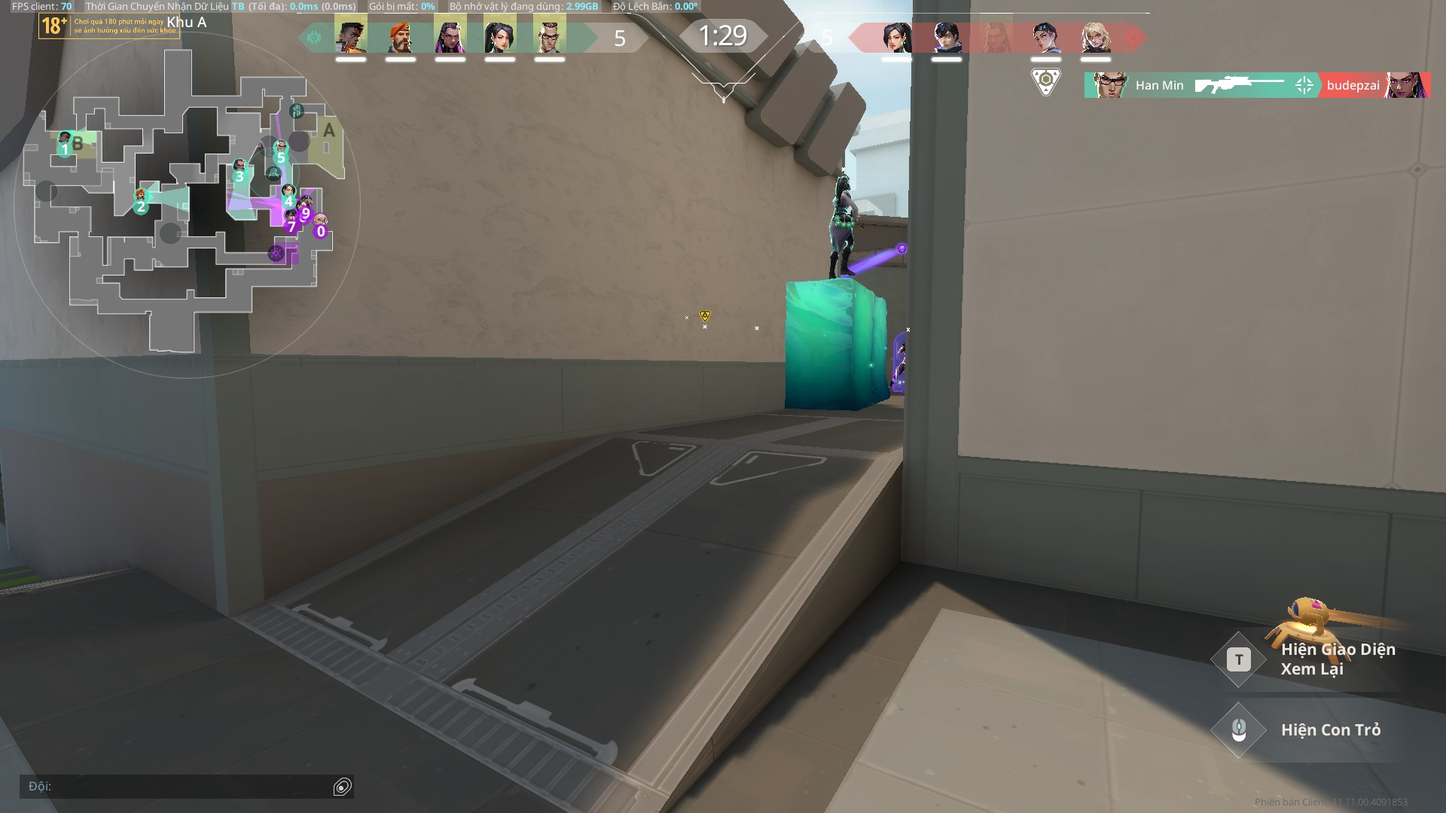body: (899, 342, 906, 363)
